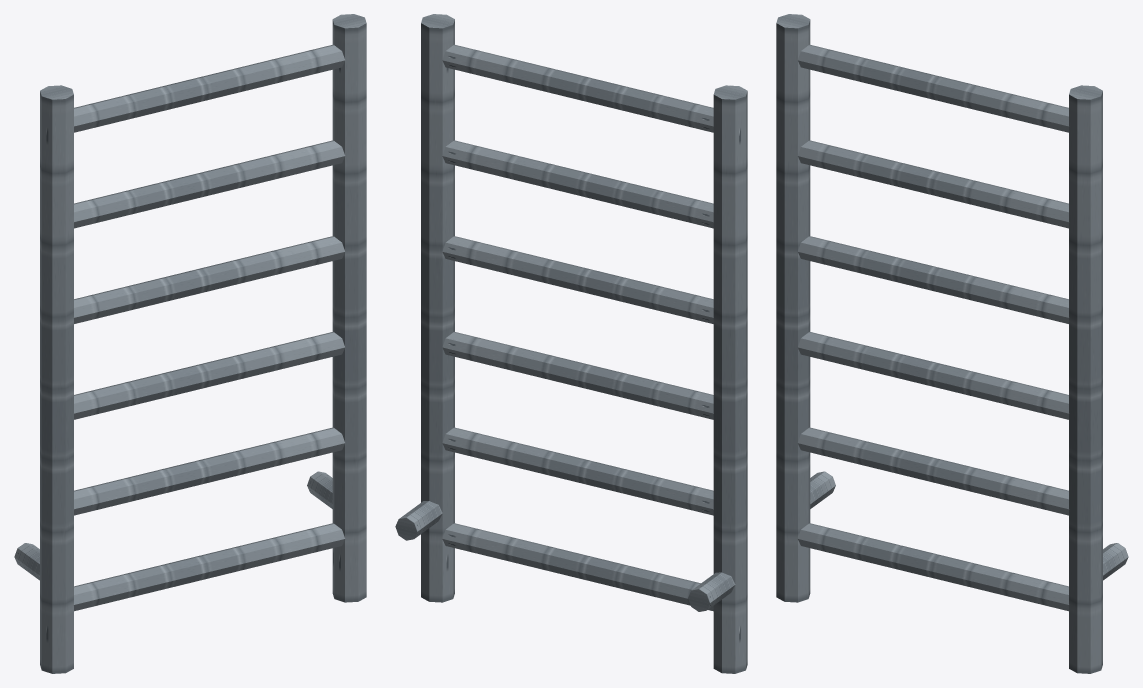
Rendered from MD_97_TowelRadiator.fbx.
3 renders of one model, left to right at view 1: azimuth 30°, elevation 25°; view 2: azimuth 150°, elevation 25°; view 3: azimuth 330°, elevation 25°, orthographic.
Visible parts, largest first — view 1: MD_97_TowelRadiator_towel_radiator_side, MD_97_TowelRadiator_towel_radiator_side.001, MD_97_TowelRadiator_heated_crossbar.004, MD_97_TowelRadiator_heated_crossbar.005, MD_97_TowelRadiator_heated_crossbar.001, MD_97_TowelRadiator_heated_crossbar, MD_97_TowelRadiator_heated_crossbar.002, MD_97_TowelRadiator_heated_crossbar.003, MD_97_TowelRadiator_wall_mount.001, MD_97_TowelRadiator_wall_mount; view 2: MD_97_TowelRadiator_towel_radiator_side, MD_97_TowelRadiator_towel_radiator_side.001, MD_97_TowelRadiator_heated_crossbar.002, MD_97_TowelRadiator_heated_crossbar.004, MD_97_TowelRadiator_heated_crossbar.005, MD_97_TowelRadiator_heated_crossbar.001, MD_97_TowelRadiator_heated_crossbar.003, MD_97_TowelRadiator_heated_crossbar, MD_97_TowelRadiator_wall_mount.001, MD_97_TowelRadiator_wall_mount; view 3: MD_97_TowelRadiator_towel_radiator_side.001, MD_97_TowelRadiator_towel_radiator_side, MD_97_TowelRadiator_heated_crossbar.004, MD_97_TowelRadiator_heated_crossbar.005, MD_97_TowelRadiator_heated_crossbar.001, MD_97_TowelRadiator_heated_crossbar, MD_97_TowelRadiator_heated_crossbar.002, MD_97_TowelRadiator_heated_crossbar.003, MD_97_TowelRadiator_wall_mount, MD_97_TowelRadiator_wall_mount.001.
Boxes of the visible parts, left/top/right/bottom form: MD_97_TowelRadiator_towel_radiator_side: left=40, top=85, right=73, bottom=673; MD_97_TowelRadiator_towel_radiator_side.001: left=332, top=14, right=366, bottom=602; MD_97_TowelRadiator_heated_crossbar.004: left=74, top=140, right=345, bottom=228; MD_97_TowelRadiator_heated_crossbar.005: left=74, top=44, right=345, bottom=132; MD_97_TowelRadiator_heated_crossbar.001: left=73, top=427, right=345, bottom=515; MD_97_TowelRadiator_heated_crossbar: left=74, top=523, right=345, bottom=611; MD_97_TowelRadiator_heated_crossbar.002: left=73, top=332, right=345, bottom=419; MD_97_TowelRadiator_heated_crossbar.003: left=74, top=236, right=345, bottom=323; MD_97_TowelRadiator_wall_mount.001: left=307, top=471, right=332, bottom=508; MD_97_TowelRadiator_wall_mount: left=14, top=543, right=39, bottom=580; MD_97_TowelRadiator_towel_radiator_side: left=713, top=85, right=747, bottom=673; MD_97_TowelRadiator_towel_radiator_side.001: left=421, top=14, right=454, bottom=602; MD_97_TowelRadiator_heated_crossbar.002: left=442, top=331, right=713, bottom=419; MD_97_TowelRadiator_heated_crossbar.004: left=442, top=140, right=713, bottom=228; MD_97_TowelRadiator_heated_crossbar.005: left=442, top=44, right=713, bottom=132; MD_97_TowelRadiator_heated_crossbar.001: left=442, top=427, right=713, bottom=515; MD_97_TowelRadiator_heated_crossbar.003: left=442, top=236, right=713, bottom=323; MD_97_TowelRadiator_heated_crossbar: left=442, top=523, right=713, bottom=611; MD_97_TowelRadiator_wall_mount.001: left=395, top=501, right=442, bottom=540; MD_97_TowelRadiator_wall_mount: left=688, top=572, right=735, bottom=611; MD_97_TowelRadiator_towel_radiator_side.001: left=1069, top=85, right=1102, bottom=673; MD_97_TowelRadiator_towel_radiator_side: left=776, top=14, right=810, bottom=602; MD_97_TowelRadiator_heated_crossbar.004: left=797, top=140, right=1068, bottom=228; MD_97_TowelRadiator_heated_crossbar.005: left=797, top=44, right=1068, bottom=132; MD_97_TowelRadiator_heated_crossbar.001: left=797, top=427, right=1069, bottom=515; MD_97_TowelRadiator_heated_crossbar: left=797, top=523, right=1068, bottom=611; MD_97_TowelRadiator_heated_crossbar.002: left=797, top=332, right=1069, bottom=419; MD_97_TowelRadiator_heated_crossbar.003: left=797, top=236, right=1068, bottom=323; MD_97_TowelRadiator_wall_mount: left=810, top=471, right=835, bottom=508; MD_97_TowelRadiator_wall_mount.001: left=1103, top=543, right=1128, bottom=580.
Size of the model in its own units: 0.53 by 0.9 by 0.115.
Materials: 1 (1 with a texture image).
